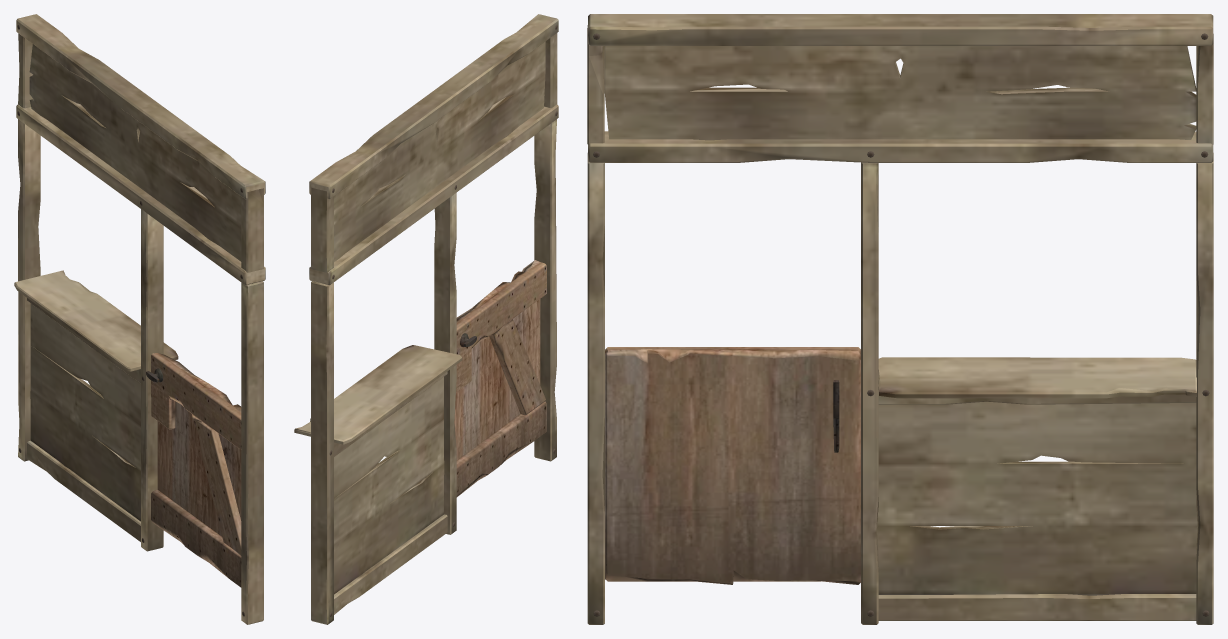
Rendered from wall.frame.shopfront.glb.
3 renders of one model, left to right at view 1: azimuth 30°, elevation 25°; view 2: azimuth 150°, elevation 25°; view 3: azimuth 270°, elevation 25°, orthographic. The views are drawn at different scales.
Visible parts, largest first — view 1: wall.frame.shopfront_LOD0, wall.frame.shopfront.door_LOD0; view 2: wall.frame.shopfront_LOD0, wall.frame.shopfront.door_LOD0; view 3: wall.frame.shopfront_LOD0, wall.frame.shopfront.door_LOD0.
Part boxes in pixels (box(x1,y1,x2,y2)): wall.frame.shopfront_LOD0: box(14, 14, 265, 624); wall.frame.shopfront.door_LOD0: box(151, 353, 241, 587); wall.frame.shopfront_LOD0: box(294, 14, 558, 624); wall.frame.shopfront.door_LOD0: box(454, 260, 546, 497); wall.frame.shopfront_LOD0: box(587, 14, 1213, 624); wall.frame.shopfront.door_LOD0: box(605, 347, 860, 584).
Size of the model in its own units: 0.3655 by 2.85 by 2.7.
Materials: 2 (2 with a texture image).
